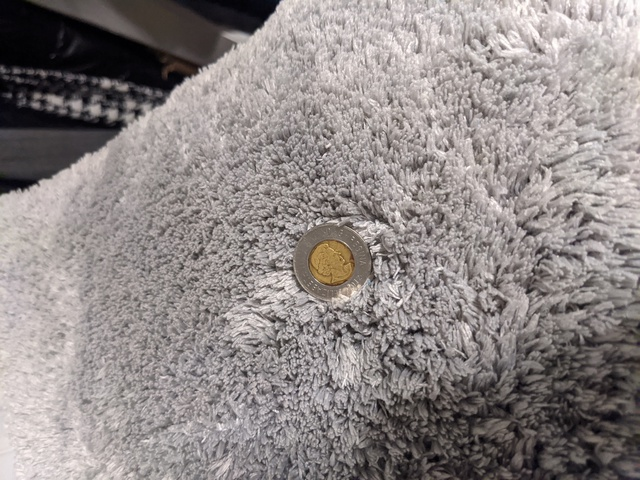twonie: (282, 219, 376, 304)
